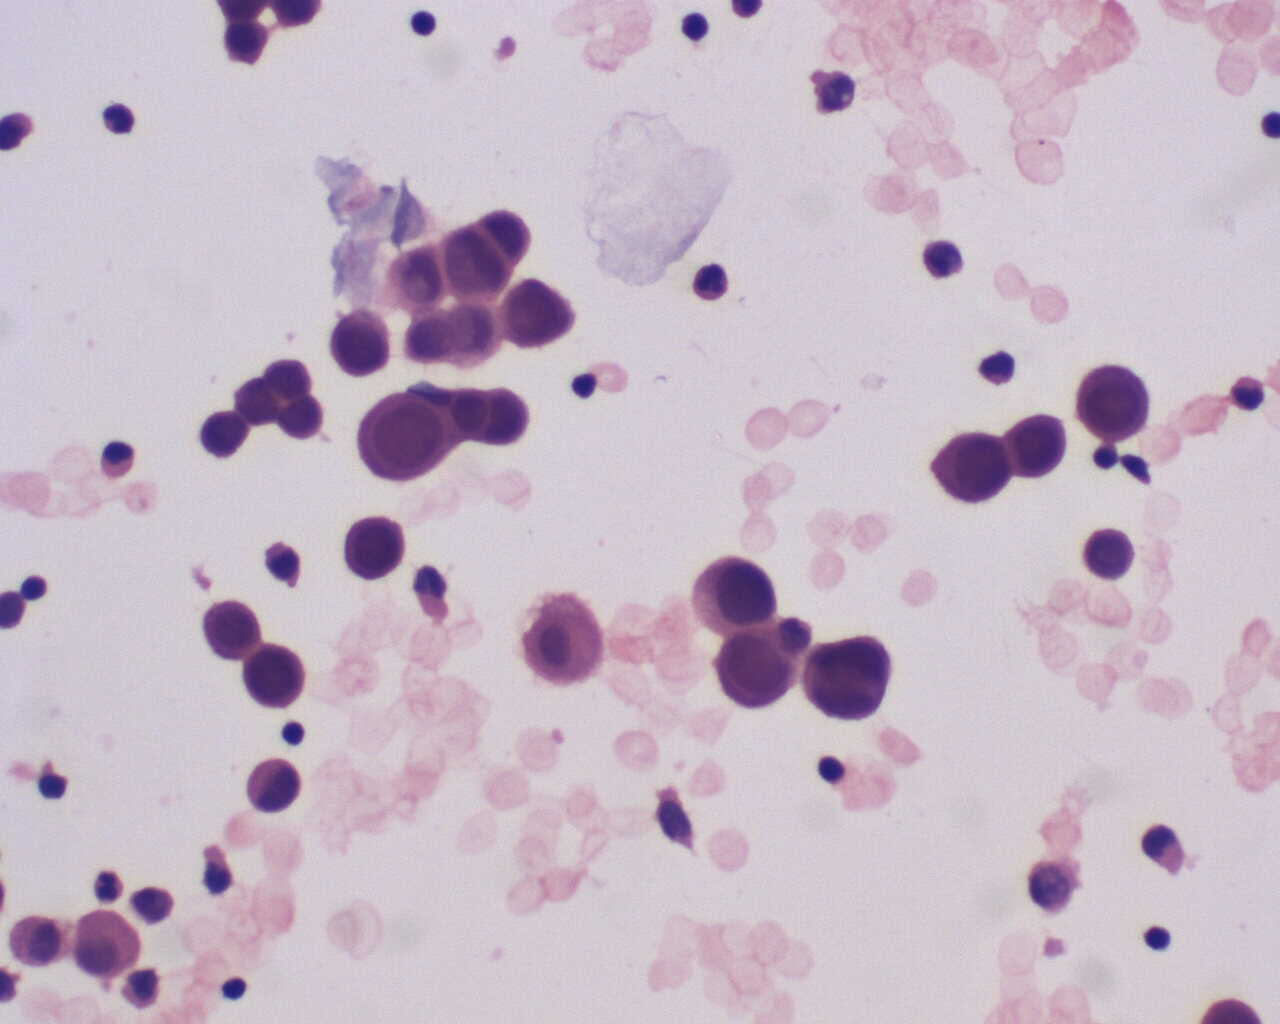ab: (434, 199, 534, 299), (355, 387, 458, 484), (804, 630, 897, 727), (681, 553, 785, 630), (1069, 360, 1158, 446), (714, 628, 798, 716), (927, 428, 1011, 512), (503, 273, 584, 357), (327, 303, 397, 379), (339, 514, 413, 581), (1000, 409, 1068, 479), (236, 643, 304, 713), (193, 597, 265, 660), (1080, 525, 1144, 587)
lymph: (213, 969, 260, 1009), (406, 6, 447, 45), (273, 712, 315, 748)
meso: (515, 586, 609, 689), (66, 903, 145, 984)
neutro: (90, 436, 141, 482), (686, 259, 734, 307), (89, 866, 127, 907)
